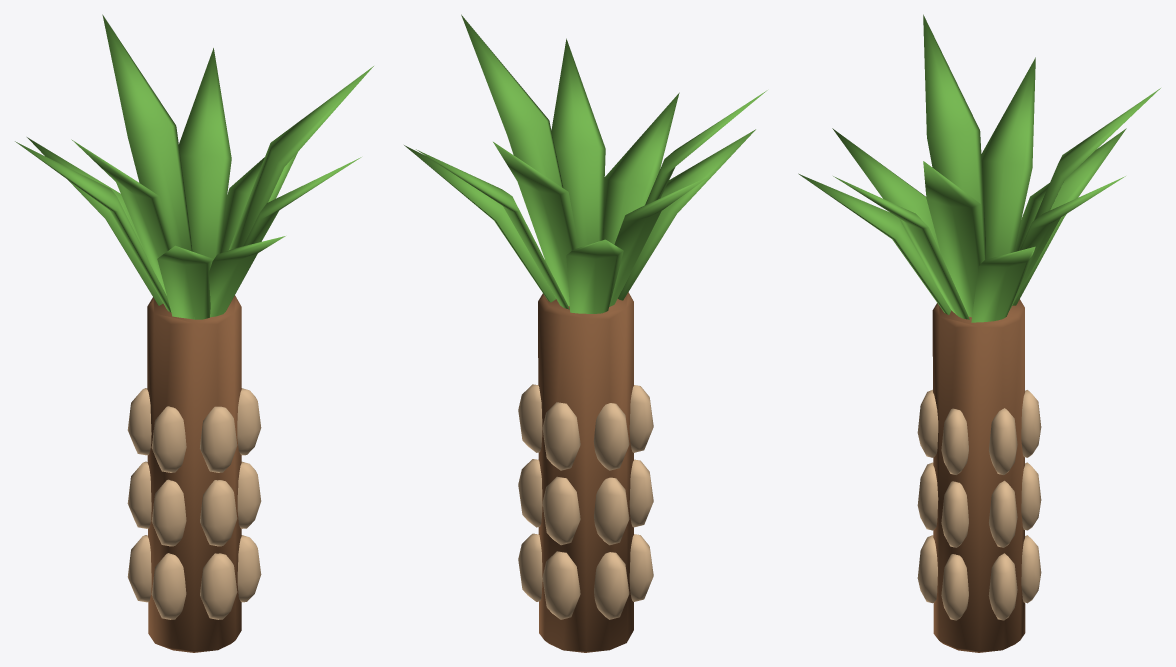
Rendered from org_cycad.glb.
The picture shows the model from 3 angles, left to right: view 1: azimuth 30°, elevation 25°; view 2: azimuth 150°, elevation 25°; view 3: azimuth 270°, elevation 25°; orthographic projection. The views are drawn at different scales.
Parts seen in each view (by area): view 1: Trunk, Foliage; view 2: Trunk, Foliage; view 3: Trunk, Foliage.
Boxes of the visible parts, x1,y1,x2,y2 form: Trunk: (127, 295, 261, 652); Foliage: (15, 14, 373, 319); Trunk: (518, 292, 653, 652); Foliage: (404, 14, 767, 313); Trunk: (917, 299, 1041, 652); Foliage: (798, 14, 1160, 322).
Bounding box in the file's own units: 0.5733 × 1 × 0.6028.
